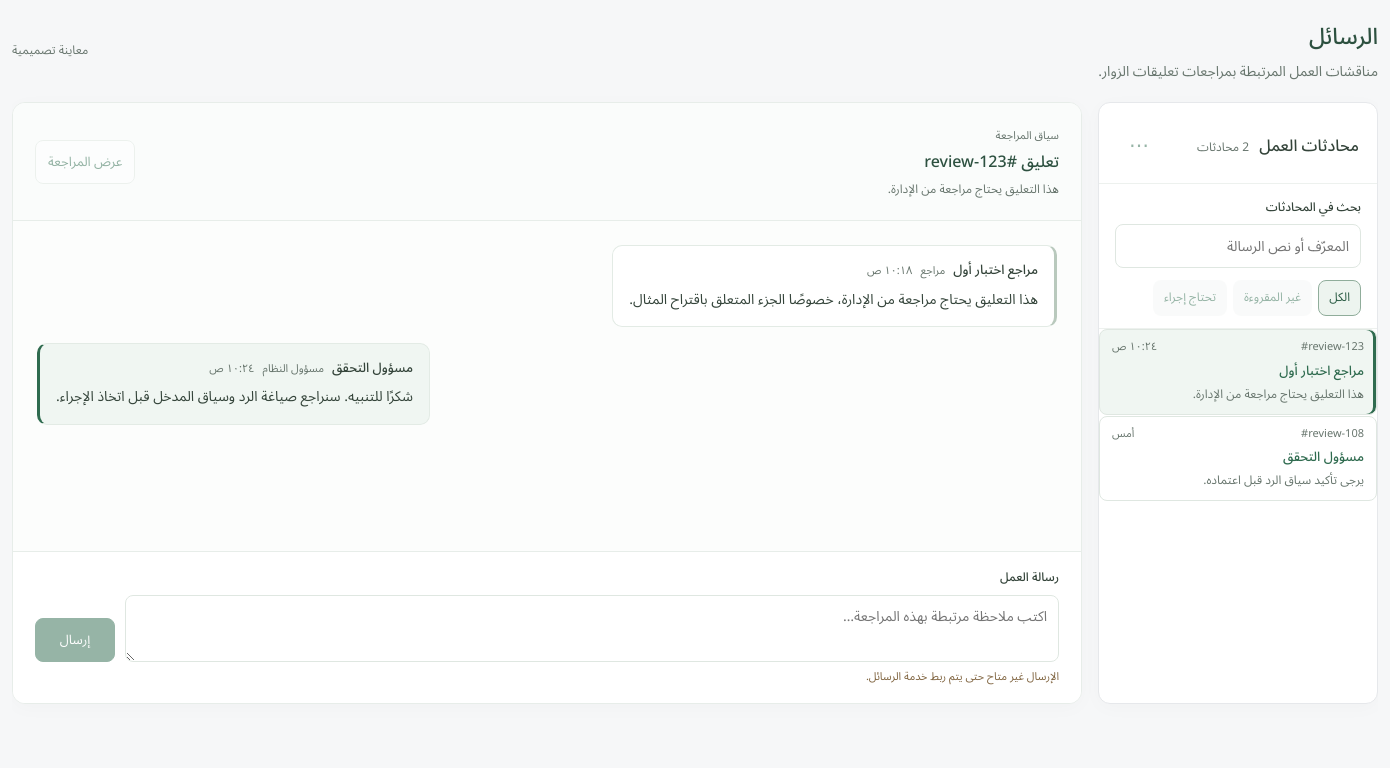
Test: Work Messages › renders the isolated design preview with work context and restrained thread
The width and height of the screenshot is (1390, 768).
Expected: the heading "الرسائل" is shown, top-left (1309, 13), bottom-right (1378, 61)
Expected: the text "تعليق #review-123" is shown, top-left (924, 145), bottom-right (1059, 179)
Click the button "review-108".
click(1336, 433)  # box top-left (1099, 416), bottom-right (1377, 501)
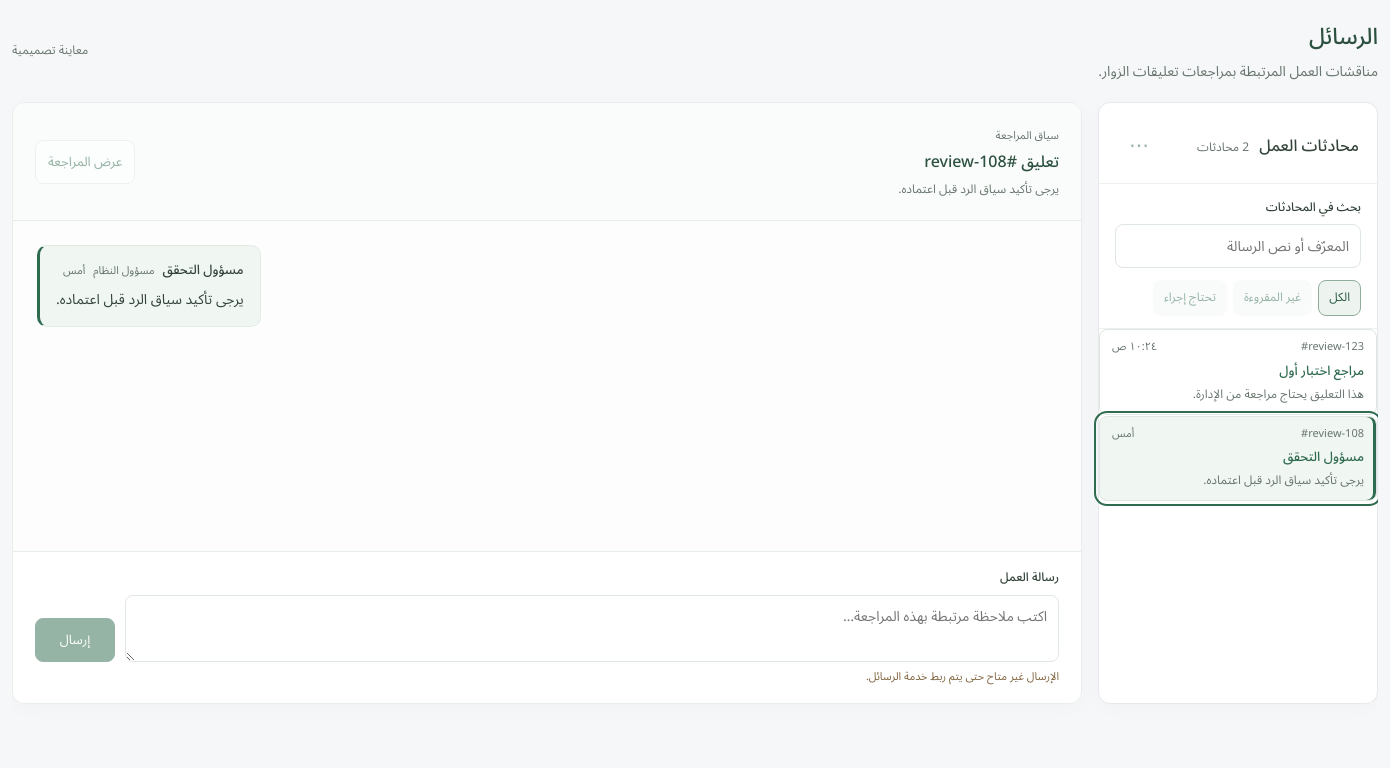
Expected: the text "تعليق #review-108" is shown, top-left (924, 145), bottom-right (1059, 179)
